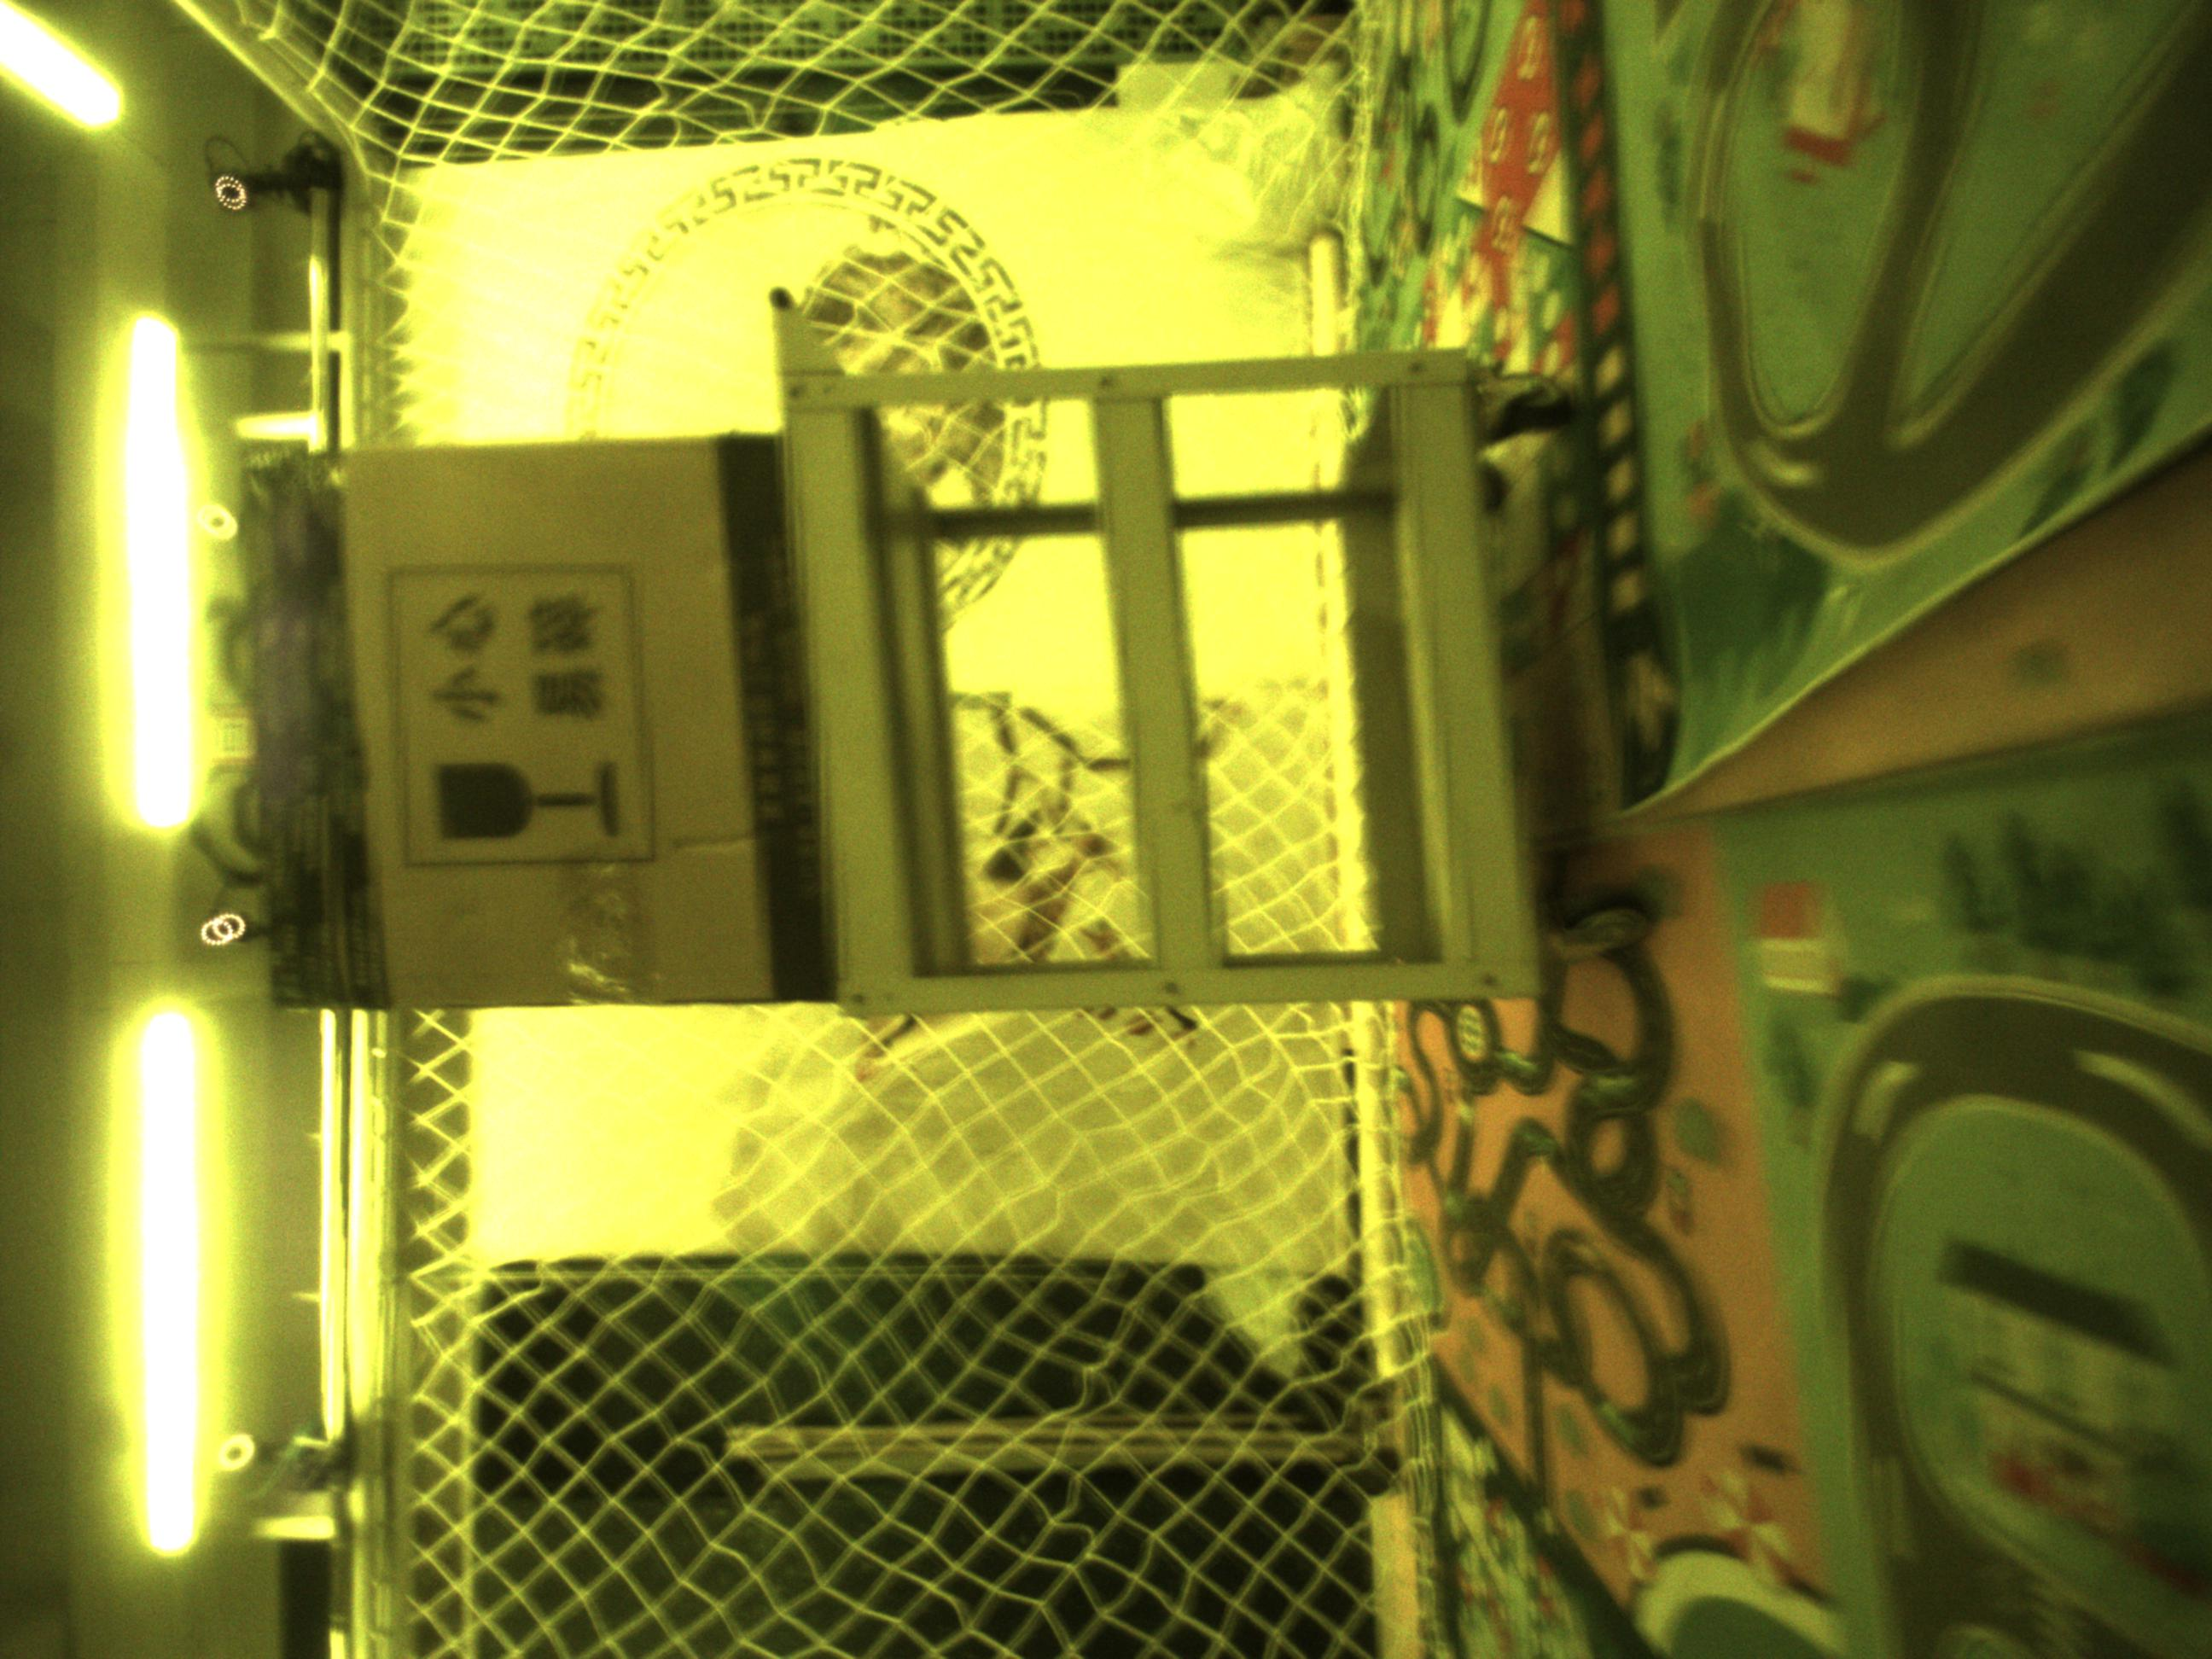outline: (206, 713, 258, 767)
